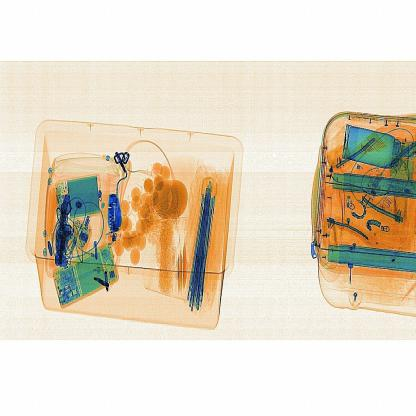scissors: (102, 187, 131, 238)
